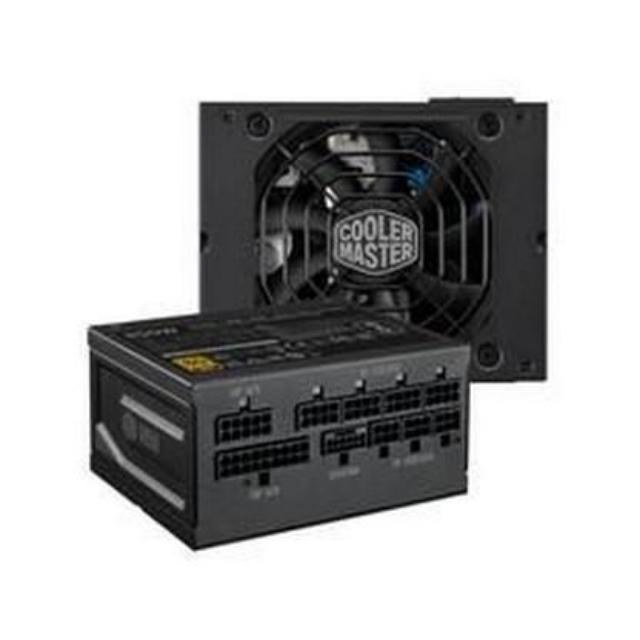PSU: (81, 294, 476, 566), (188, 94, 552, 388)
